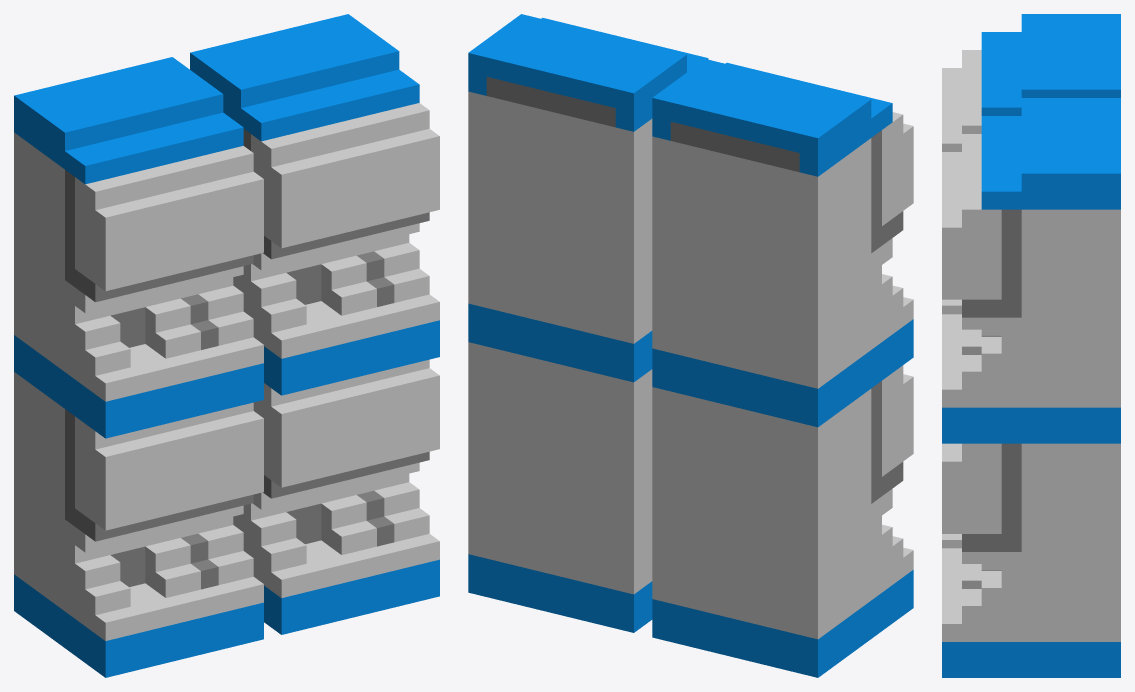
The model's file is gachaponMachine.glb.
3 renders of one model, left to right at view 1: azimuth 30°, elevation 25°; view 2: azimuth 150°, elevation 25°; view 3: azimuth 270°, elevation 25°, orthographic. The views are drawn at different scales.
Visible parts, largest first — view 1: ObjObject; view 2: ObjObject; view 3: ObjObject.
Part boxes in pixels (box(x1,y1,x2,y2)): ObjObject: box(14, 14, 439, 677); ObjObject: box(468, 14, 913, 677); ObjObject: box(942, 14, 1120, 677).
Bounding box in the file's own units: 1.9 × 2.8 × 0.9.
1 material, 1 textured.
